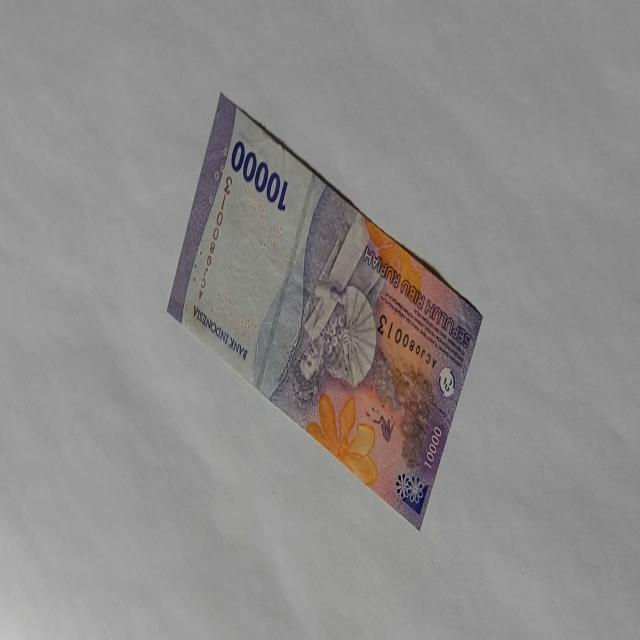sepuluh ribu rupiah: (166, 90, 484, 532), (230, 138, 289, 212), (191, 302, 249, 362)
